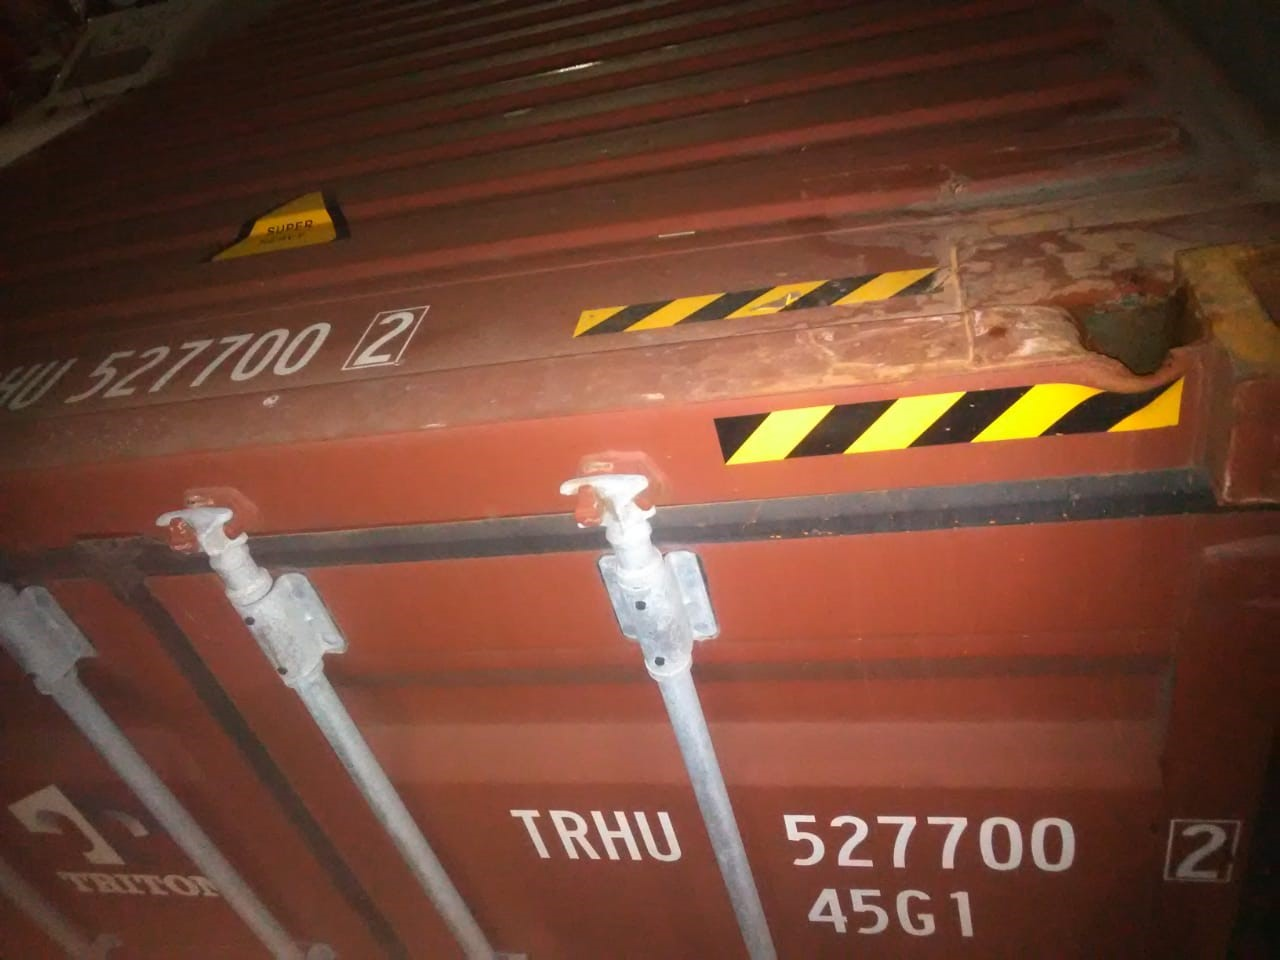severe: (1027, 260, 1211, 392)
